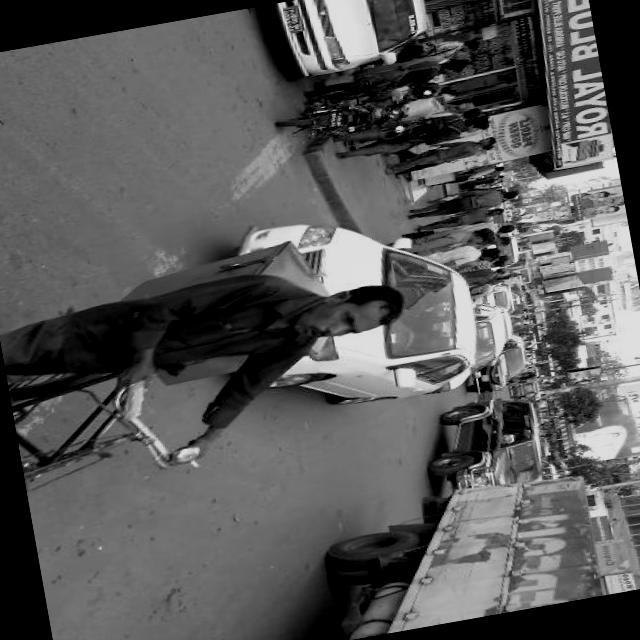car: (416, 388, 552, 506), (264, 0, 436, 87), (421, 296, 515, 394), (456, 332, 534, 397), (470, 278, 516, 318)
motorcycle: (270, 76, 449, 158)
truck: (318, 470, 616, 640)
